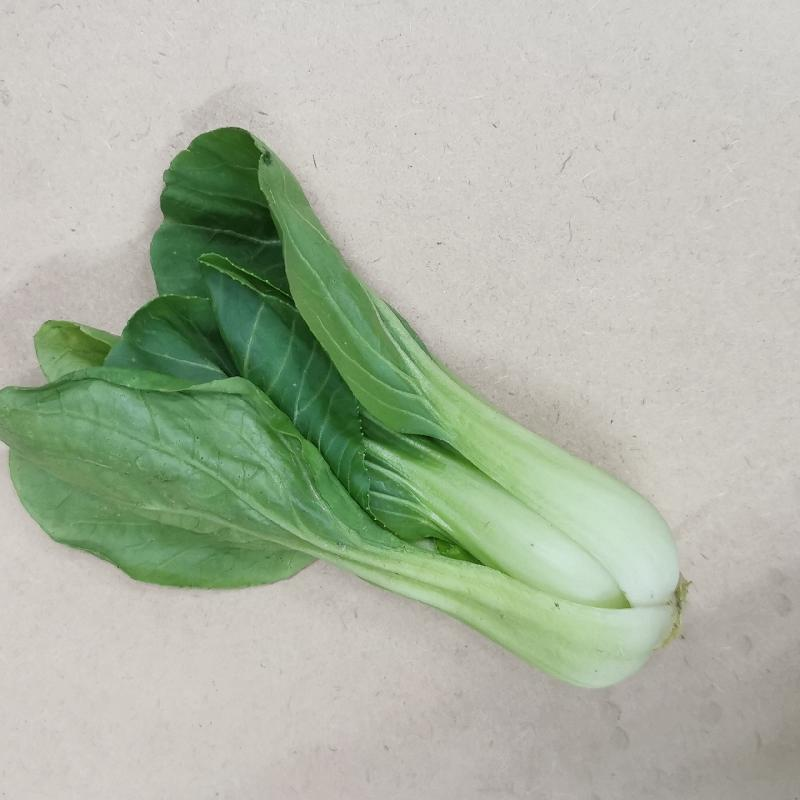green vegatable: (8, 131, 695, 701)
